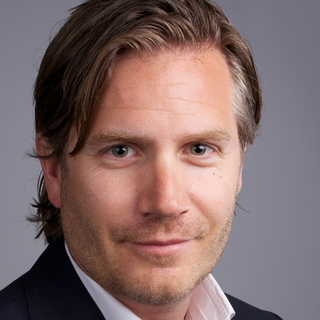eye: (90, 138, 149, 167), (175, 136, 225, 165)
